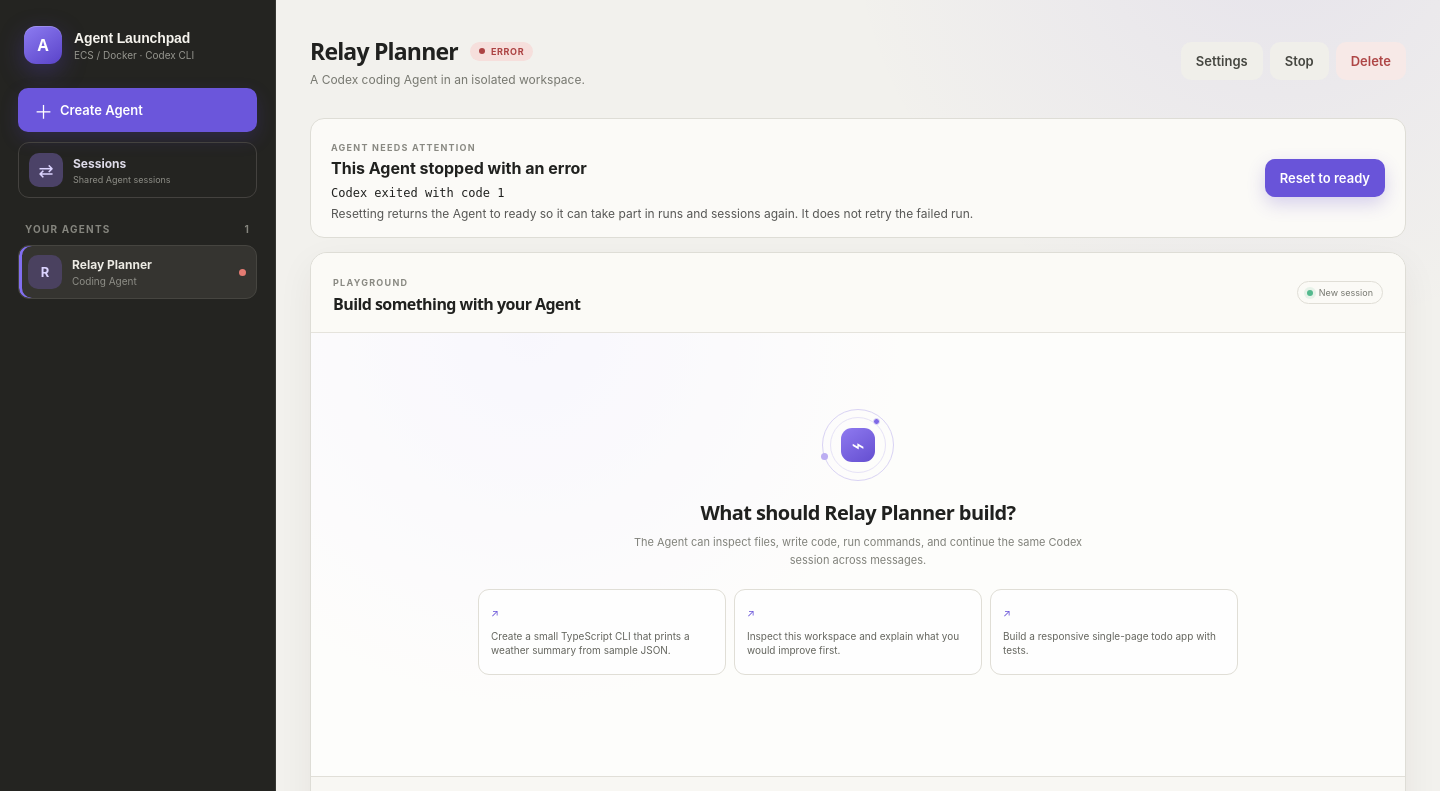
Test: Agent recovery (P11-07) › shows the failure message and resets an errored Agent to ready
This screenshot has width=1440, height=791.
Expected: the heading "Relay Planner" is shown, [310, 35, 458, 67]
Expected: the text "Codex exited with code 1" is shown, [331, 186, 504, 200]
Click the button "Reset to ready".
click(1325, 178)  # box [1265, 159, 1385, 197]
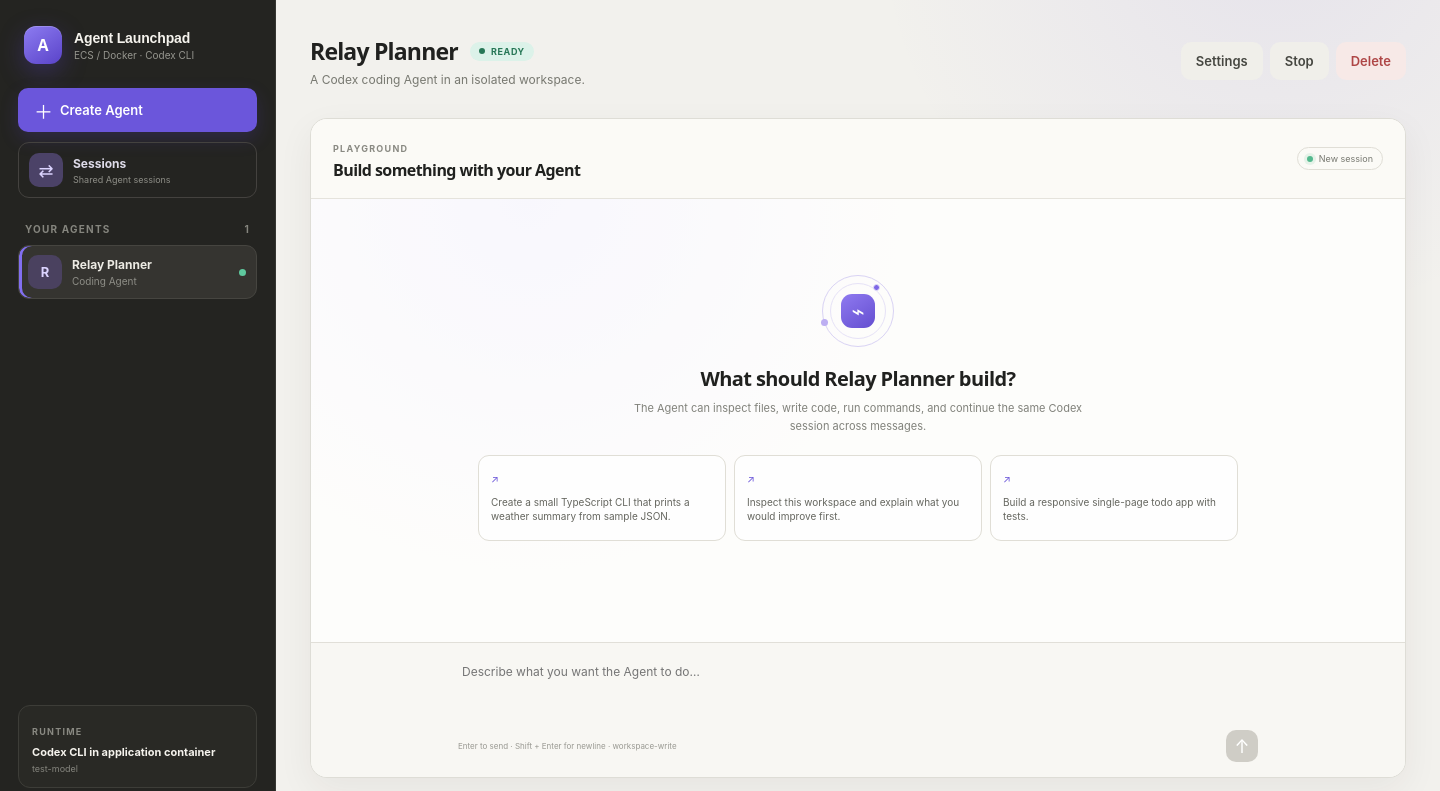
Expected: the button "Reset to ready" is gone
